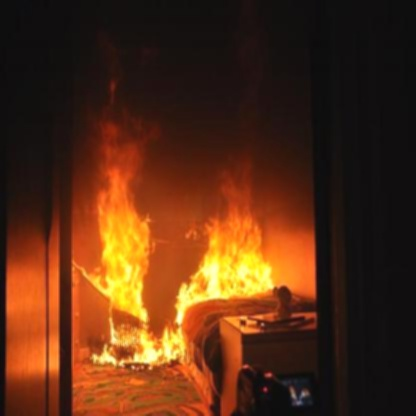fire: (67, 103, 315, 392)
